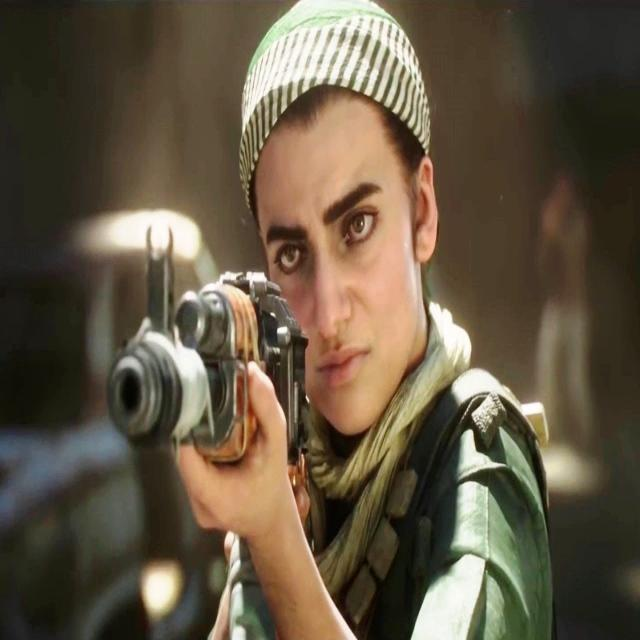ak: (106, 205, 314, 550)
